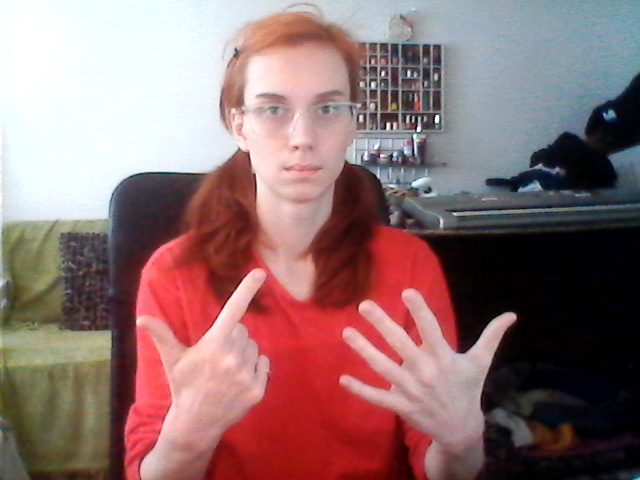sedem: (127, 265, 522, 435)
